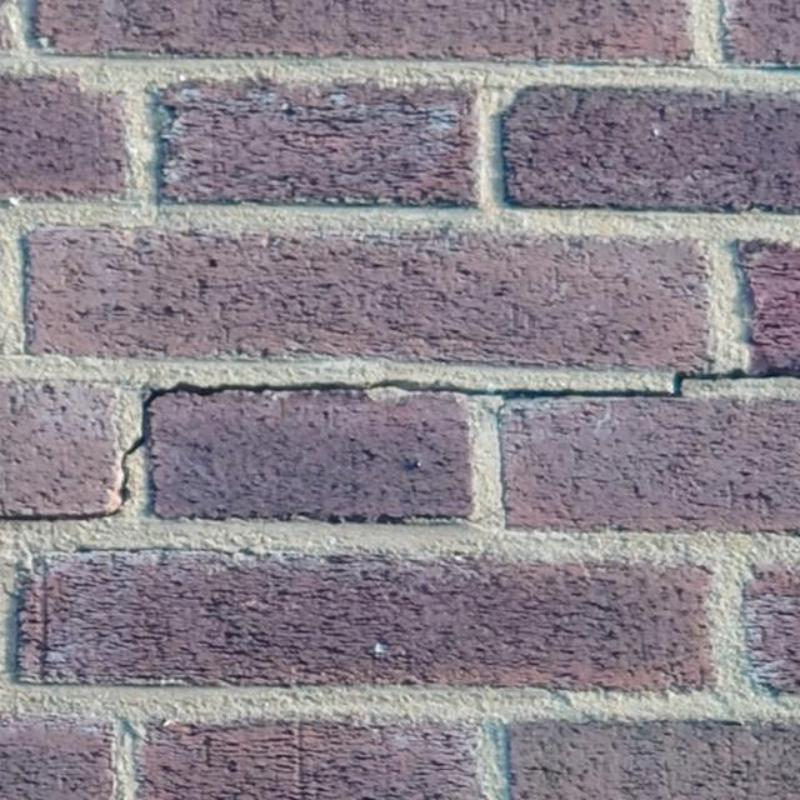pothole: (1, 369, 800, 520)
